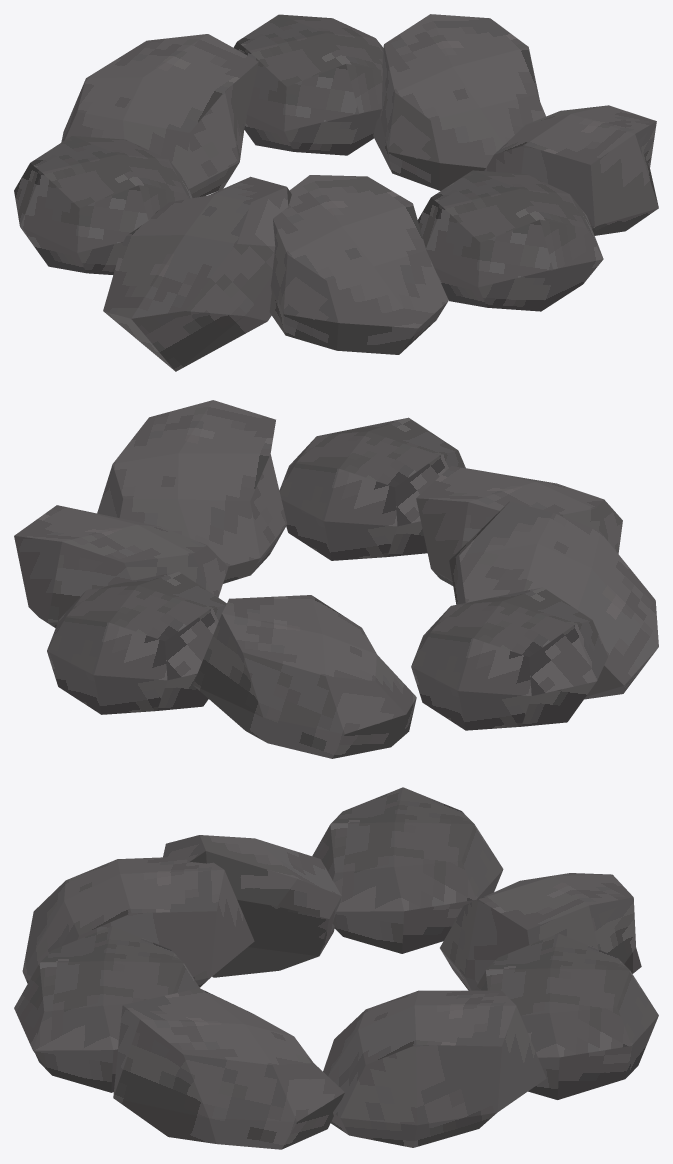
The model's file is candle_circle.glb.
3 renders of one model, top to bottom at view 1: azimuth 30°, elevation 25°; view 2: azimuth 150°, elevation 25°; view 3: azimuth 270°, elevation 25°, orthographic. The views are drawn at different scales.
Parts seen in each view (by area): view 1: candle circle; view 2: candle circle; view 3: candle circle.
Boxes of the visible parts, x1,y1,x2,y2 form: candle circle: (14, 14, 658, 371); candle circle: (14, 400, 658, 758); candle circle: (14, 787, 658, 1149).
Size of the model in its own units: 0.8855 by 0.2463 by 0.8457.
Materials: 8 (8 with a texture image).
